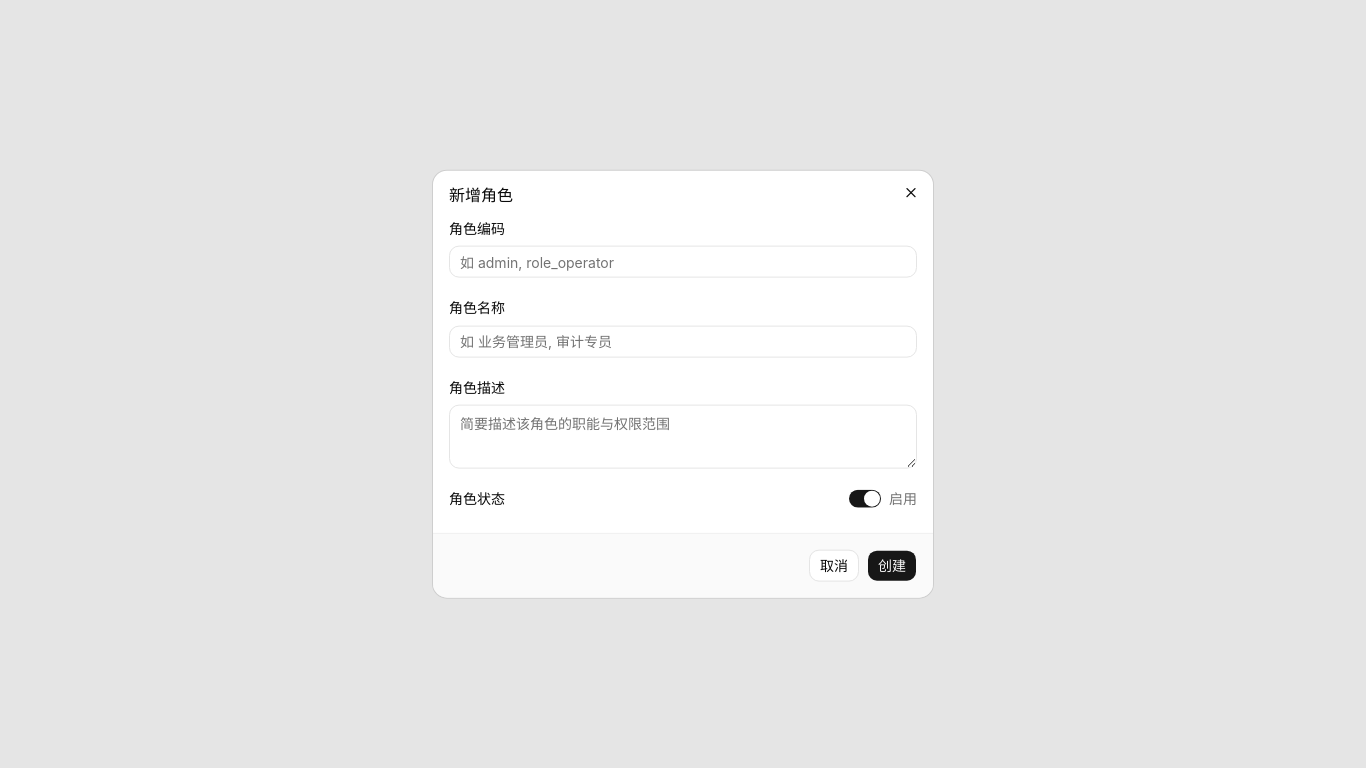
Scenario: RoleFormModal (RBAC 角色 新增/编辑弹窗) › 提交失败路径 - 后端抛出通用异常时在 Alert 中展示错误信息且 loading 结束
The width and height of the screenshot is (1366, 768).
Type "timeout_role" into the field labelled "角色编码".
click(683, 262); type("timeout_role")  # box [449,246,917,278]
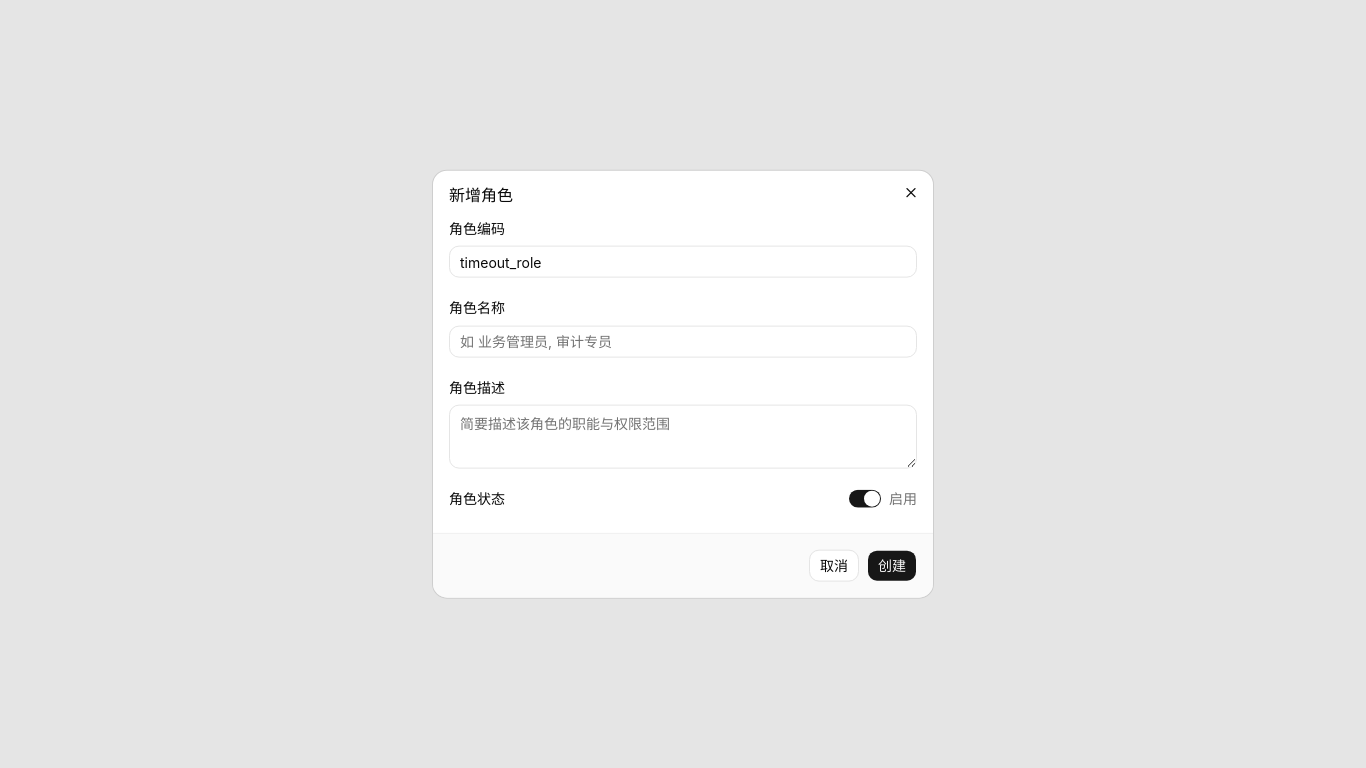
Type "超时角色" into the field labelled "角色名称".
click(683, 341); type("超时角色")  # box [449,325,917,357]
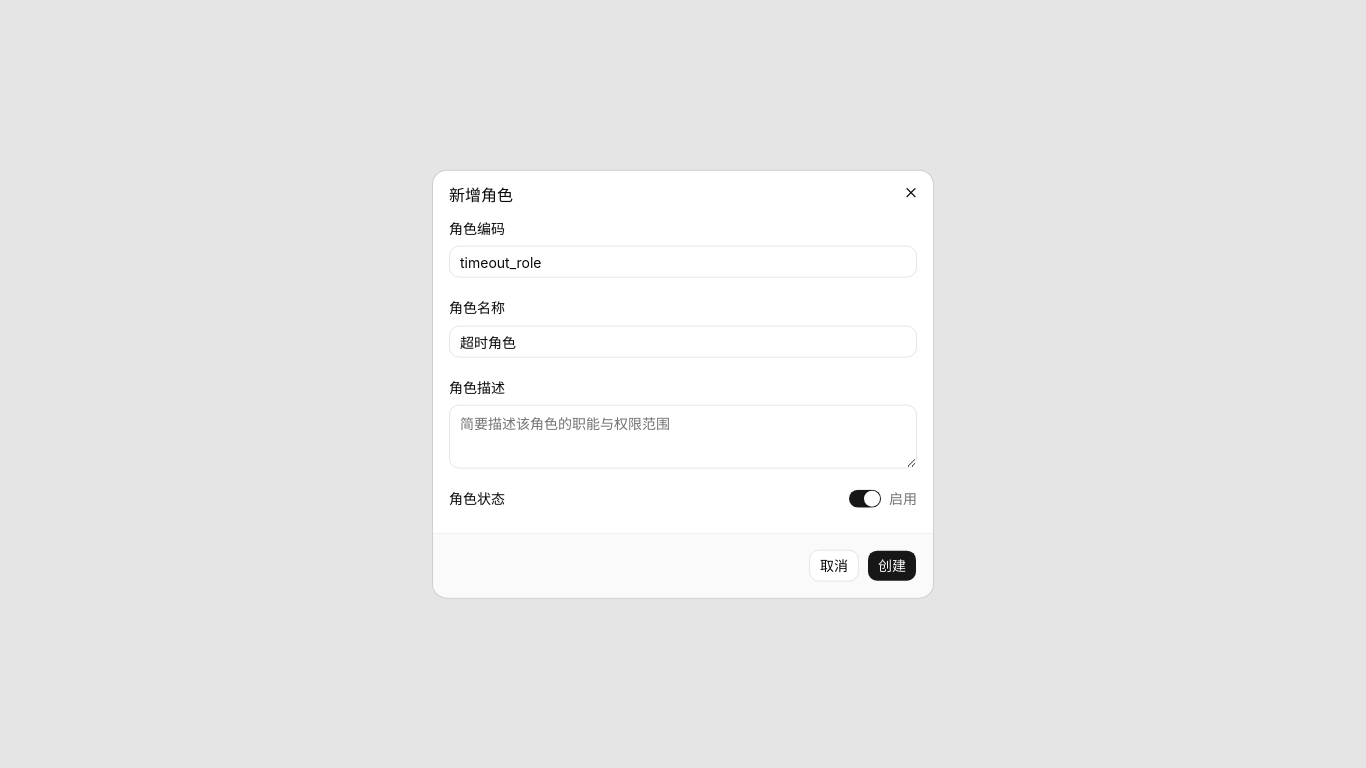
Click the button "创建".
click(892, 565)  # box [867,549,917,581]
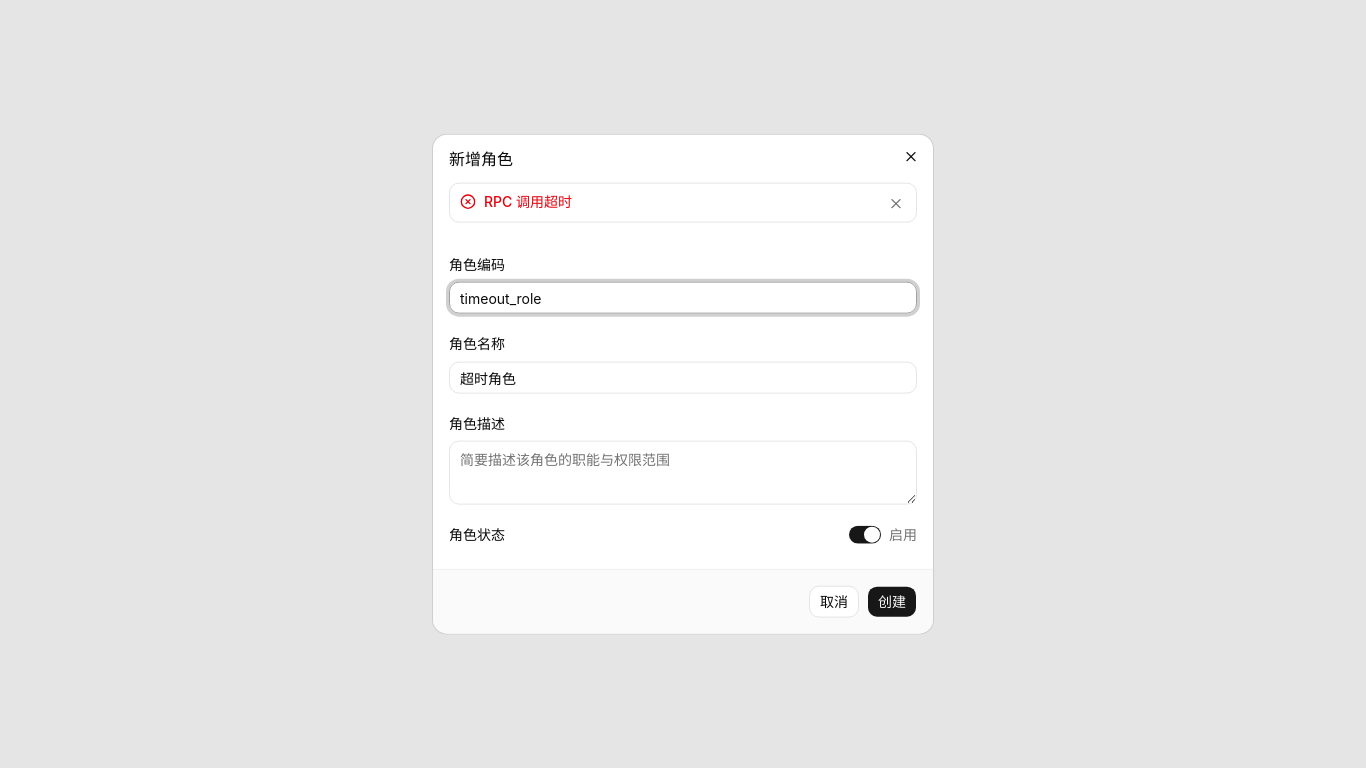
Expected: the button "创建" is enabled, [867,585,917,617]
Expected: the text "RPC 调用超时" is shown, [484,193,572,210]
